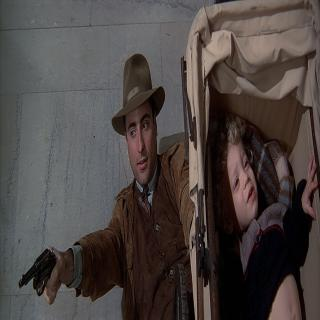gun: (16, 240, 62, 304)
